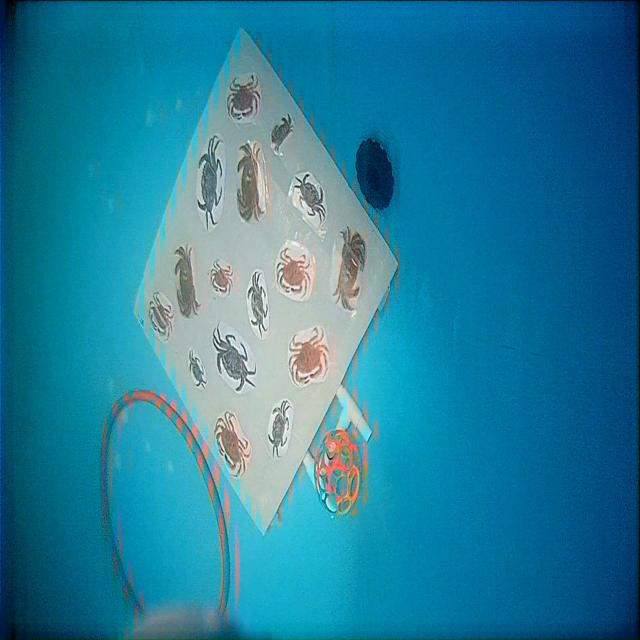GreenCrab: (213, 324, 256, 392), (197, 136, 222, 230), (294, 174, 326, 221)
